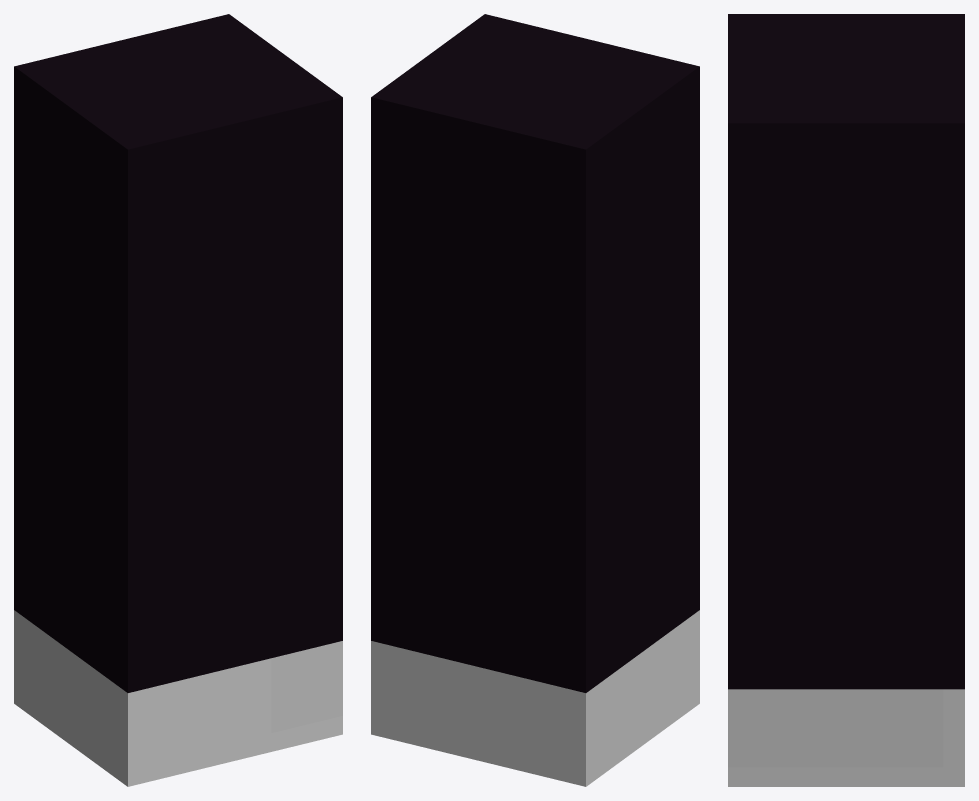
Rendered from dessicant-3.obj.
3 views of the same model, side by side, from view 1: azimuth 30°, elevation 25°; view 2: azimuth 150°, elevation 25°; view 3: azimuth 270°, elevation 25° (orthographic). The views are drawn at different scales.
Size of the model in its own units: 1.2 by 3.4 by 1.1.
Materials: 1 (1 with a texture image).
